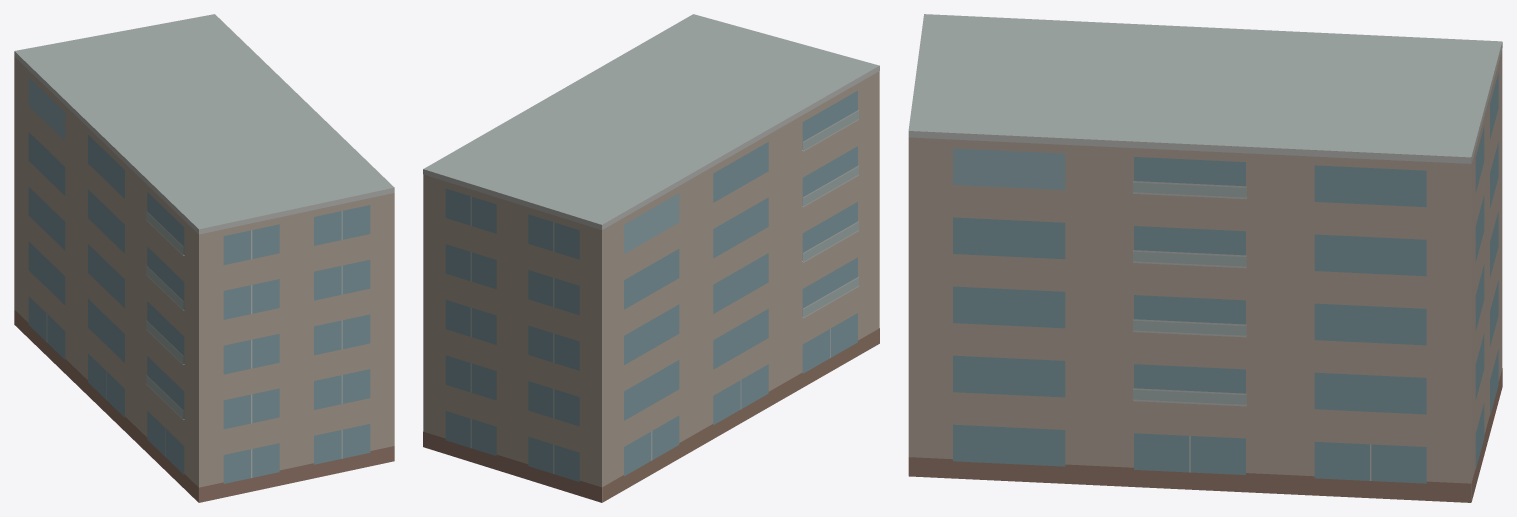
Rendered from survey-upis-32669743.glb.
3 renders of one model, left to right at view 1: azimuth 30°, elevation 25°; view 2: azimuth 150°, elevation 25°; view 3: azimuth 270°, elevation 25°, orthographic. The views are drawn at different scales.
Parts seen in each view (by area): view 1: survey-upis-32669743.tmp; view 2: survey-upis-32669743.tmp; view 3: survey-upis-32669743.tmp.
Part boxes in pixels (x1,y1,x2,y2): survey-upis-32669743.tmp: (14,14,394,502); survey-upis-32669743.tmp: (423,14,879,502); survey-upis-32669743.tmp: (908,14,1502,502).
Bounding box in the file's own units: 11.49 × 12.9 × 20.11.
